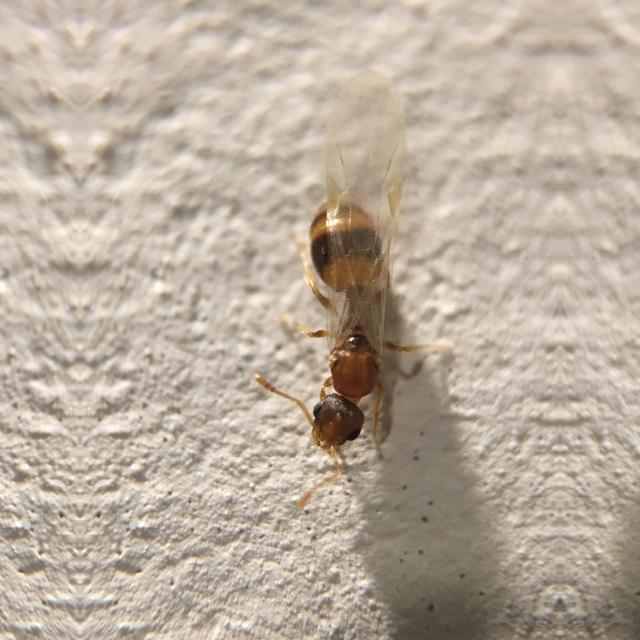Temnothorax: (250, 130, 432, 498)
